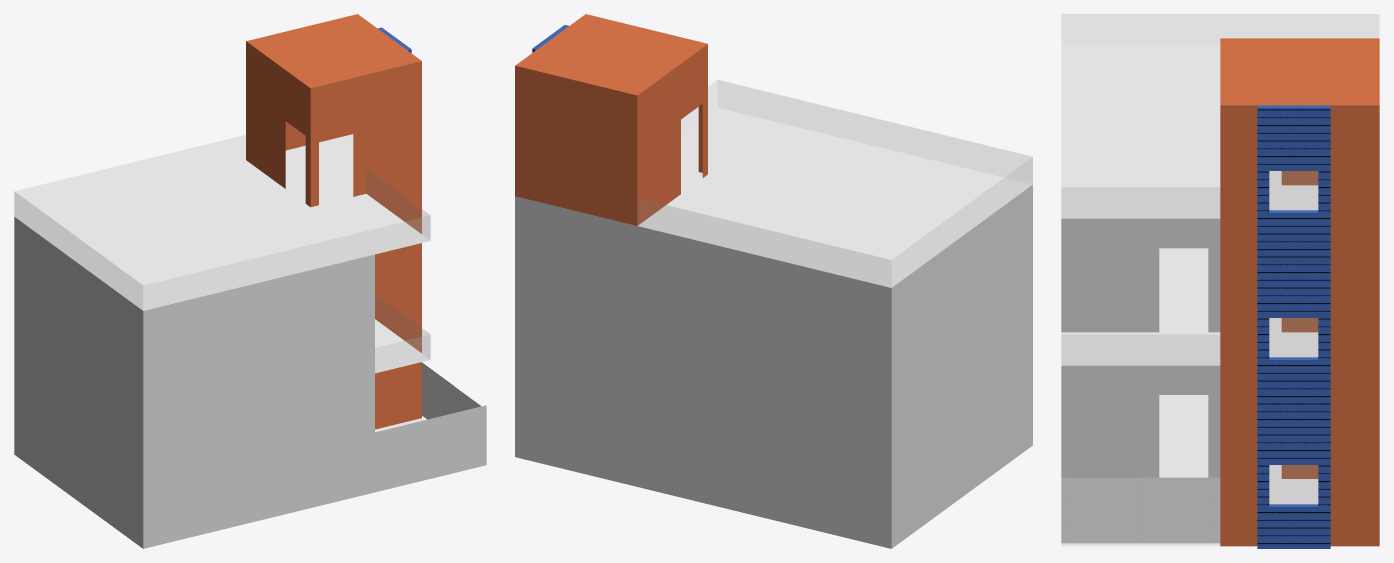
The model's file is sideHouse.glb.
The picture shows the model from 3 angles, left to right: view 1: azimuth 30°, elevation 25°; view 2: azimuth 150°, elevation 25°; view 3: azimuth 270°, elevation 25°; orthographic projection. The views are drawn at different scales.
Parts seen in each view (by area): view 1: Bounds, room7, room6, room3, 1stFloor, Gate2; view 2: Bounds, room7; view 3: Bounds, BlueStrip, room7, room6, room3, balconyWall, groundWall, 1stFloor, Gate2, Gate1.
Boxes of the visible parts, box(x1,y1,x2,y2) form: Bounds: box(14, 134, 486, 548); room7: box(246, 14, 421, 207); room6: box(366, 180, 421, 310); room3: box(375, 299, 421, 429); 1stFloor: box(375, 294, 430, 373); Gate2: box(422, 362, 454, 419); Bounds: box(515, 80, 1032, 548); room7: box(515, 14, 707, 225); Bounds: box(1061, 14, 1379, 546); BlueStrip: box(1257, 105, 1330, 548); room7: box(1220, 38, 1379, 252); room6: box(1220, 252, 1379, 399); room3: box(1220, 399, 1379, 546); balconyWall: box(1061, 218, 1220, 332); groundWall: box(1061, 365, 1220, 477); 1stFloor: box(1061, 248, 1318, 365); Gate2: box(1141, 477, 1220, 543); Gate1: box(1061, 478, 1140, 543).
Bounding box in the file's own units: 12.34 × 12.12 × 7.92.
Materials: 6 (2 with a texture image).
